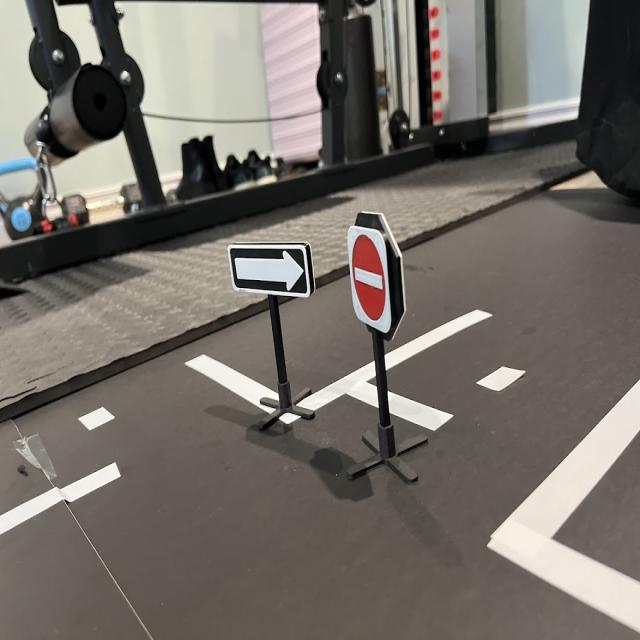sign_noentry: (349, 225, 394, 339)
sign_oneway_right: (227, 244, 318, 298)
